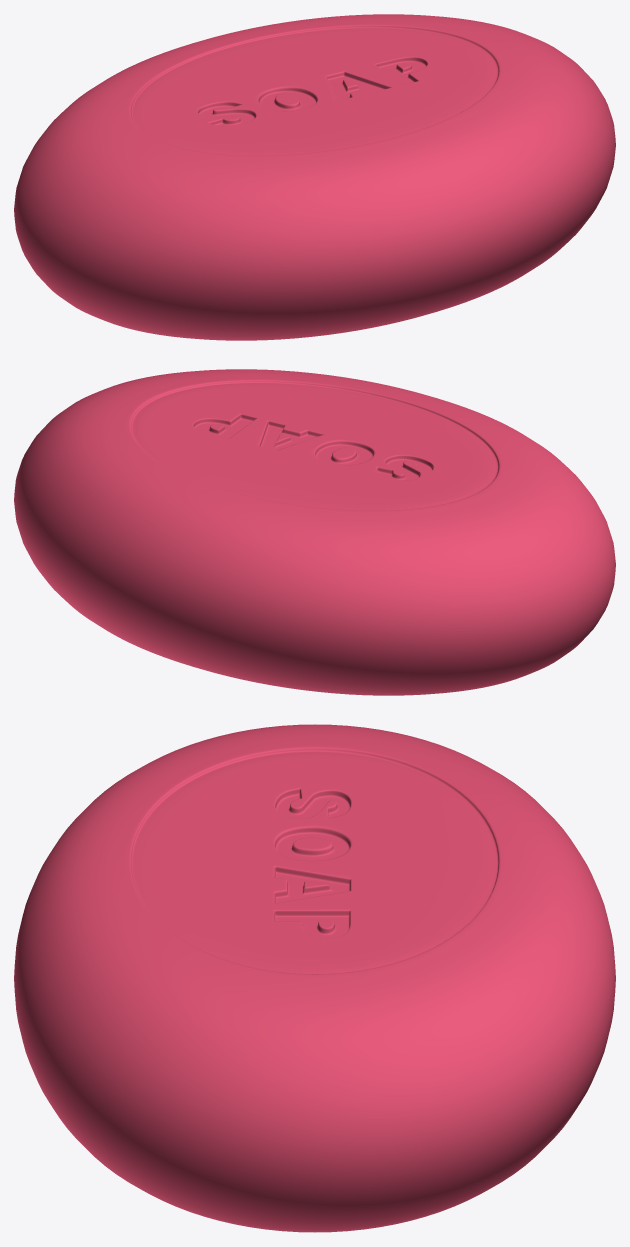
File: soap_1.fbx
3 renders of one model, top to bottom at view 1: azimuth 30°, elevation 25°; view 2: azimuth 150°, elevation 25°; view 3: azimuth 270°, elevation 25°, orthographic. The views are drawn at different scales.
Parts seen in each view (by area): view 1: 16878_bar_of_soap_V1; view 2: 16878_bar_of_soap_V1; view 3: 16878_bar_of_soap_V1.
Boxes of the visible parts, left/top/right/bottom form: 16878_bar_of_soap_V1: left=14, top=14, right=615, bottom=340; 16878_bar_of_soap_V1: left=14, top=369, right=615, bottom=695; 16878_bar_of_soap_V1: left=14, top=724, right=615, bottom=1232.
Bounding box in the file's own units: 828 × 246 × 571.
